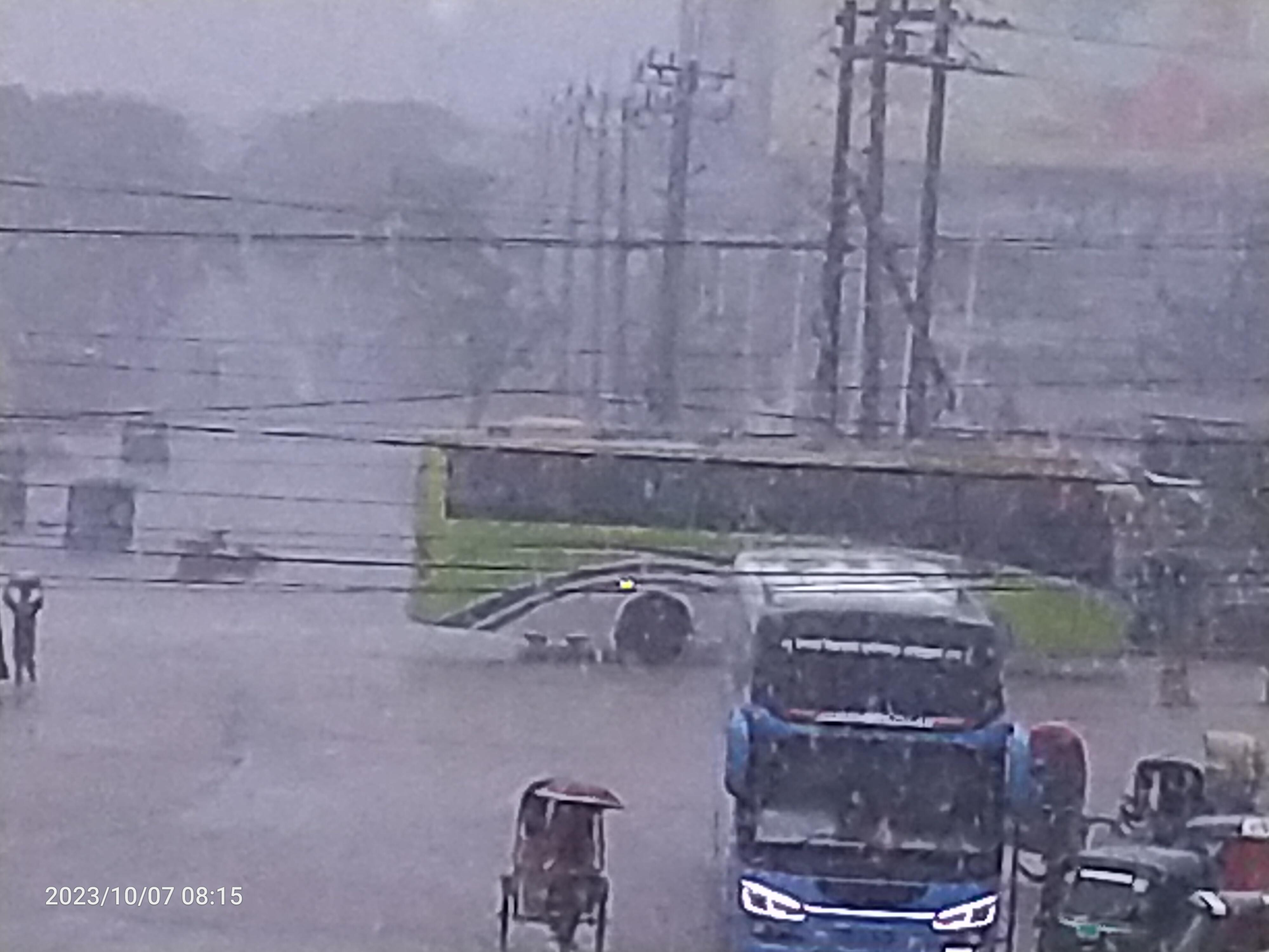Bus: (359, 396, 1159, 695), (704, 517, 1031, 952)
Car: (474, 761, 677, 952), (1009, 710, 1095, 894)
